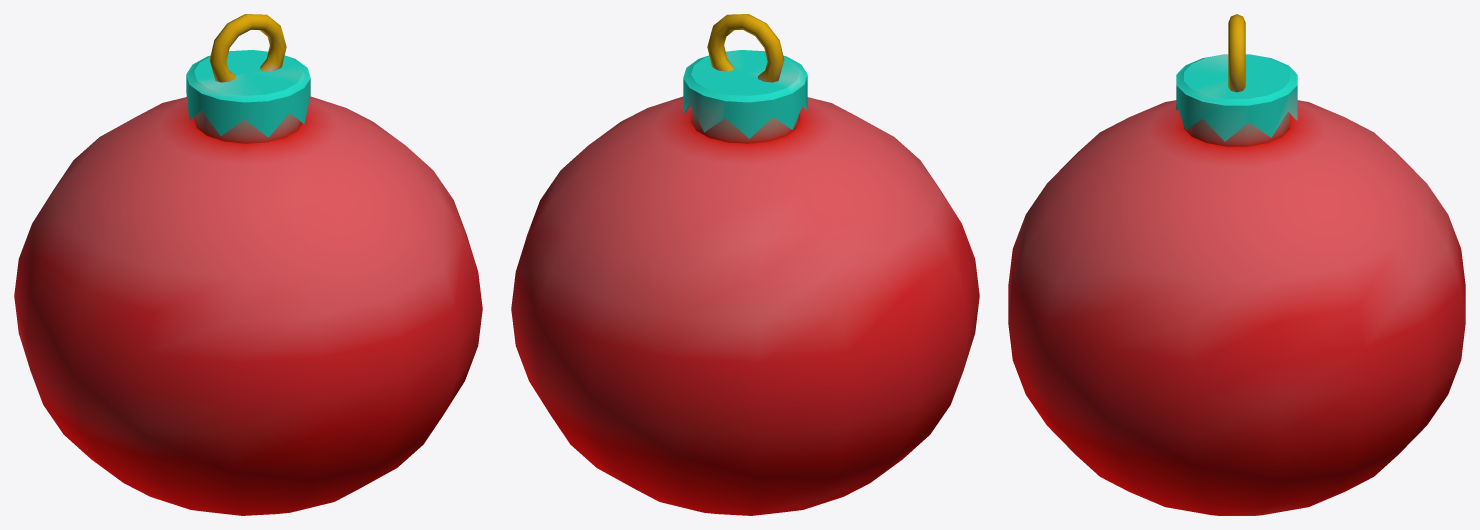
Rendered from granade.fbx.
The picture shows the model from 3 angles, left to right: view 1: azimuth 30°, elevation 25°; view 2: azimuth 150°, elevation 25°; view 3: azimuth 270°, elevation 25°; orthographic projection.
Parts seen in each view (by area): view 1: Sphere; view 2: Sphere; view 3: Sphere.
Part boxes in pixels (left/top/right/bottom): Sphere: left=14, top=14, right=482, bottom=515; Sphere: left=511, top=14, right=979, bottom=515; Sphere: left=1008, top=14, right=1465, bottom=515.
Size of the model in its own units: 24.02 by 27.55 by 24.02.
